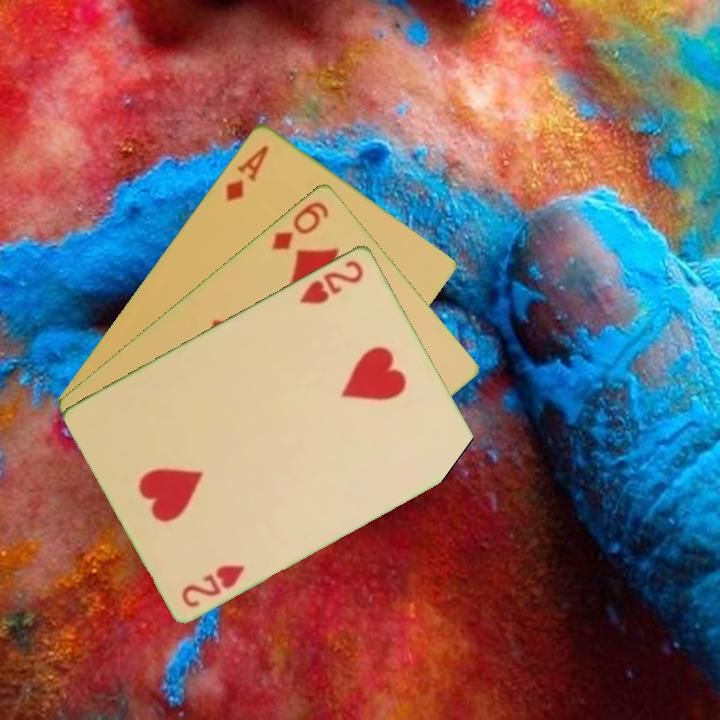2h: (296, 256, 367, 307), (178, 560, 248, 610)
6d: (267, 197, 332, 253)
Ad: (221, 141, 272, 204)
